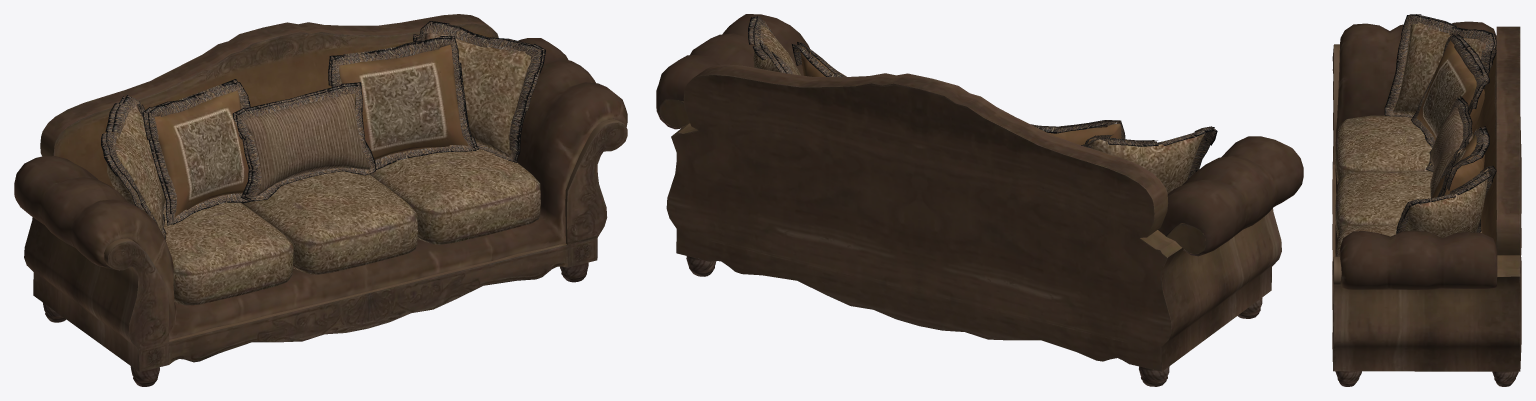
Rendered from sofa_03.glb.
3 renders of one model, left to right at view 1: azimuth 30°, elevation 25°; view 2: azimuth 150°, elevation 25°; view 3: azimuth 270°, elevation 25°, orthographic. The views are drawn at different scales.
Parts seen in each view (by area): view 1: sofa_03; view 2: sofa_03; view 3: sofa_03.
Boxes of the visible parts, x1=… form: sofa_03: x1=14, y1=14, x2=627, y2=386; sofa_03: x1=656, y1=14, x2=1303, y2=386; sofa_03: x1=1332, y1=14, x2=1521, y2=386.
Size of the model in its own units: 2.73 by 1.12 by 0.9251.
Materials: 2 (2 with a texture image).
